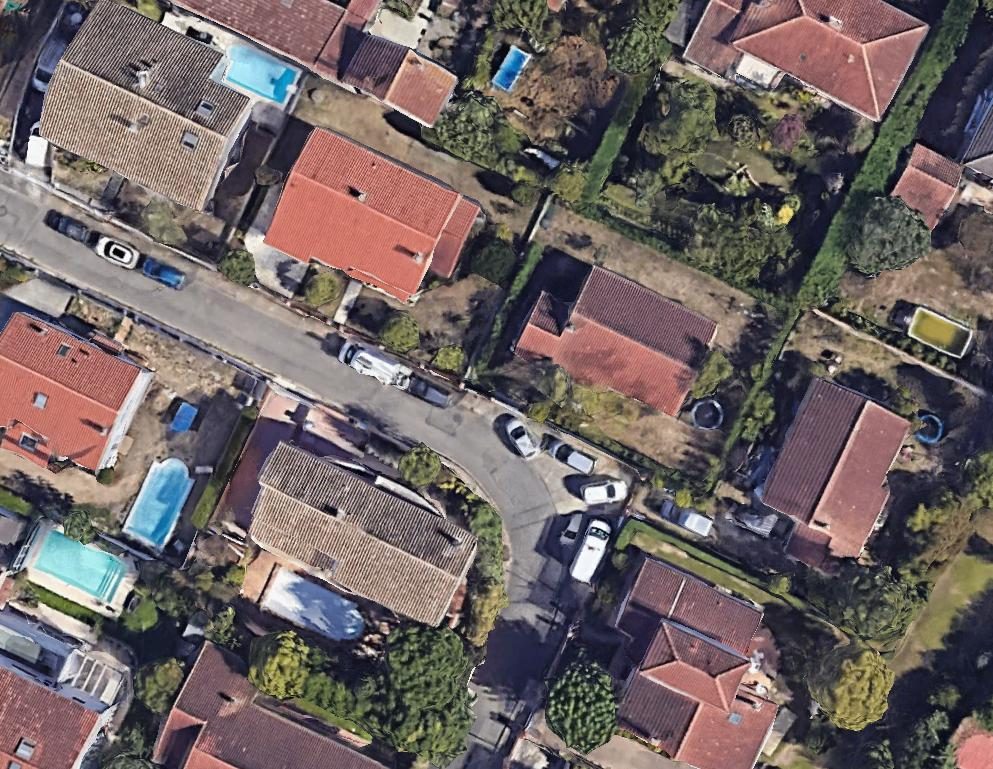maison: (565, 550, 819, 769), (25, 0, 269, 215), (230, 433, 485, 632), (258, 121, 485, 319), (160, 0, 471, 129), (738, 371, 924, 582), (509, 247, 722, 427), (146, 640, 399, 769), (681, 0, 930, 124), (0, 302, 156, 492), (0, 668, 97, 768), (883, 141, 968, 231), (960, 87, 992, 177)
